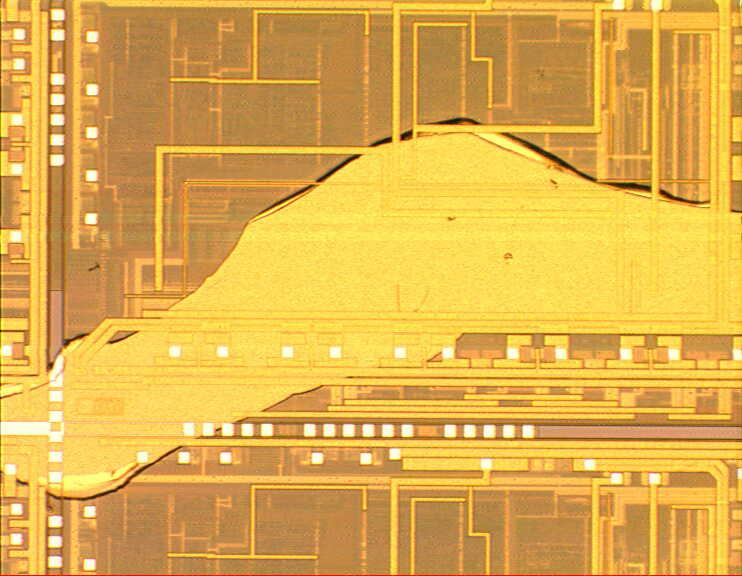BLOCK ETCH: (1, 114, 742, 510)
